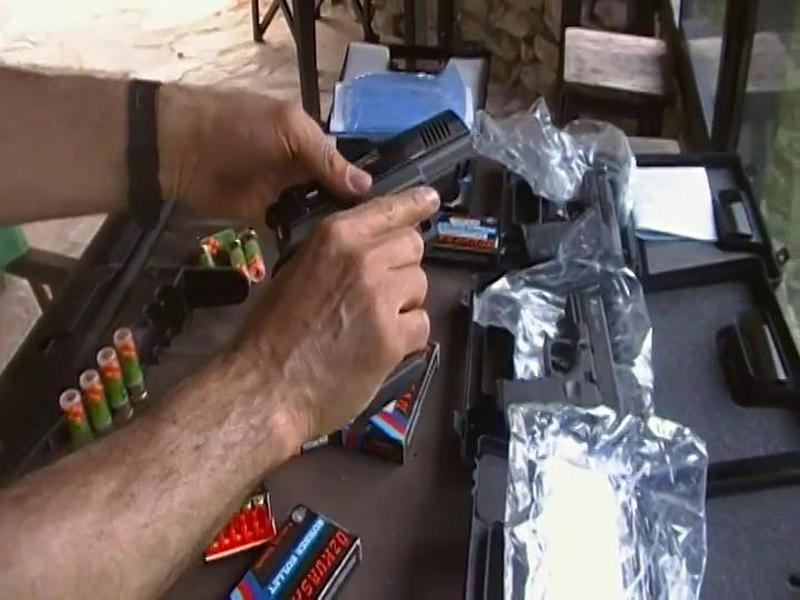Pistola: (259, 100, 500, 316)
